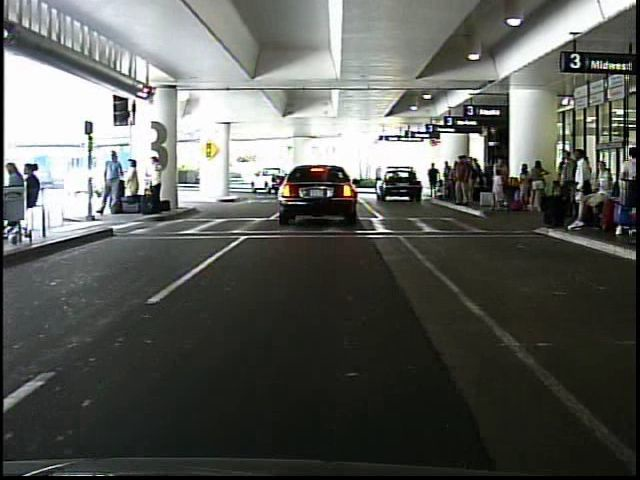person: (96, 149, 128, 221), (147, 153, 165, 216), (125, 158, 144, 211), (427, 162, 441, 200)
